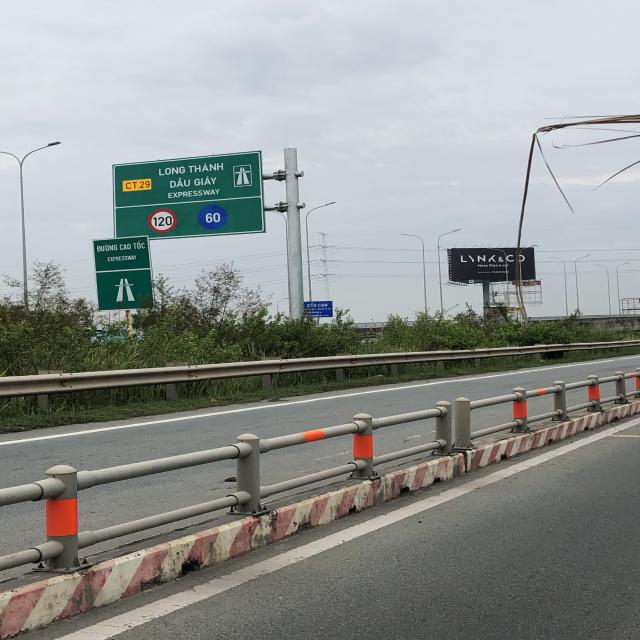Bien bao toc do toi thieu cho phep: (196, 204, 230, 231)
